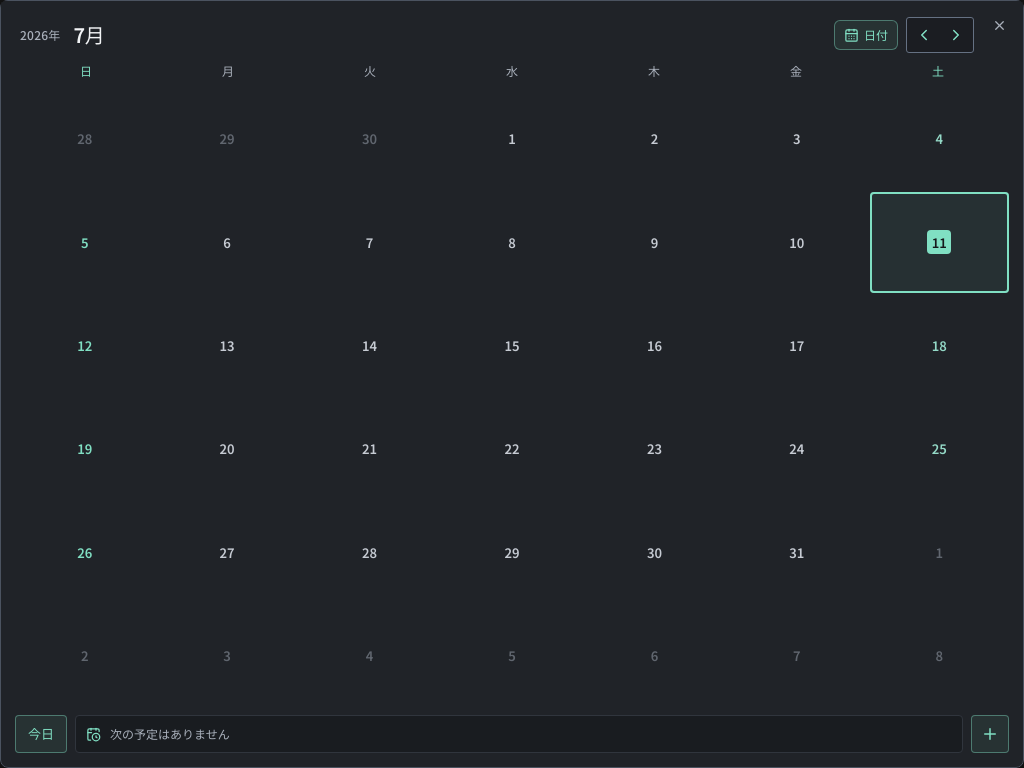
CalendarOverlay window coordination › moves across month boundaries and reloads the visible event range
The width and height of the screenshot is (1024, 768).
Click the button named "7月31日". click: [797, 552]
box: [727,502,866,603]
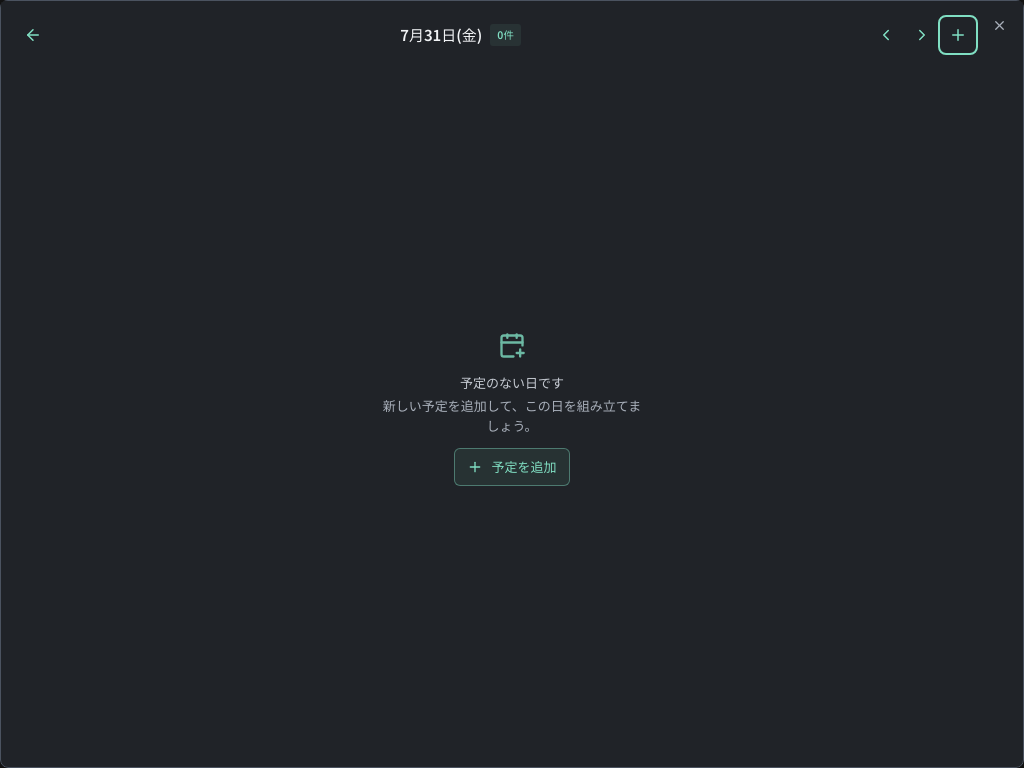
Expected: the heading "7月31日(金) 0件" is shown, [400,24,521,46]
Click the button named "次の日". click: [922, 35]
box: [906,19,938,51]
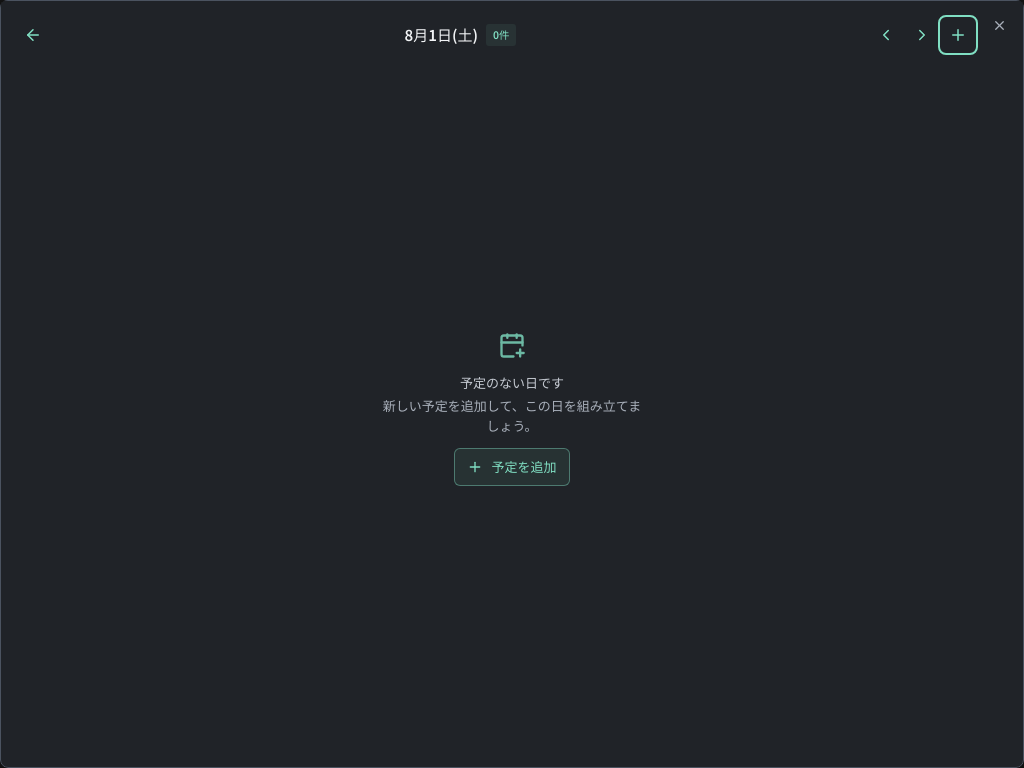
Expected: the heading "8月1日(土) 0件" is shown, [405,24,516,46]
